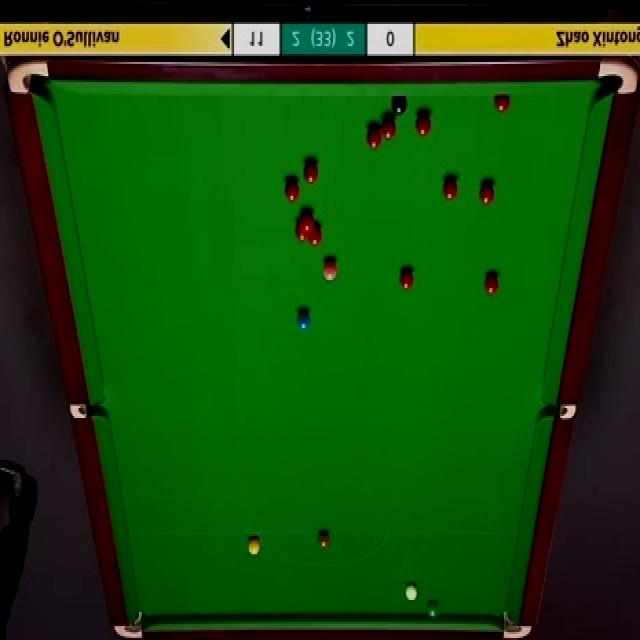black-ball: (389, 94, 407, 116)
blue-ball: (295, 307, 311, 332)
brown-ball: (316, 529, 330, 552)
green-ball: (425, 600, 440, 619)
pink-ball: (323, 258, 338, 286)
red-ball: (380, 112, 398, 143), (398, 265, 416, 293), (302, 154, 318, 182), (414, 111, 431, 137), (478, 181, 495, 207), (366, 125, 382, 151), (286, 179, 302, 204), (442, 177, 458, 201), (484, 272, 499, 297), (308, 222, 322, 246), (494, 94, 510, 114), (301, 210, 314, 230), (295, 222, 308, 242)
white-ball: (404, 579, 419, 603)
yellow-ball: (246, 537, 260, 557)
